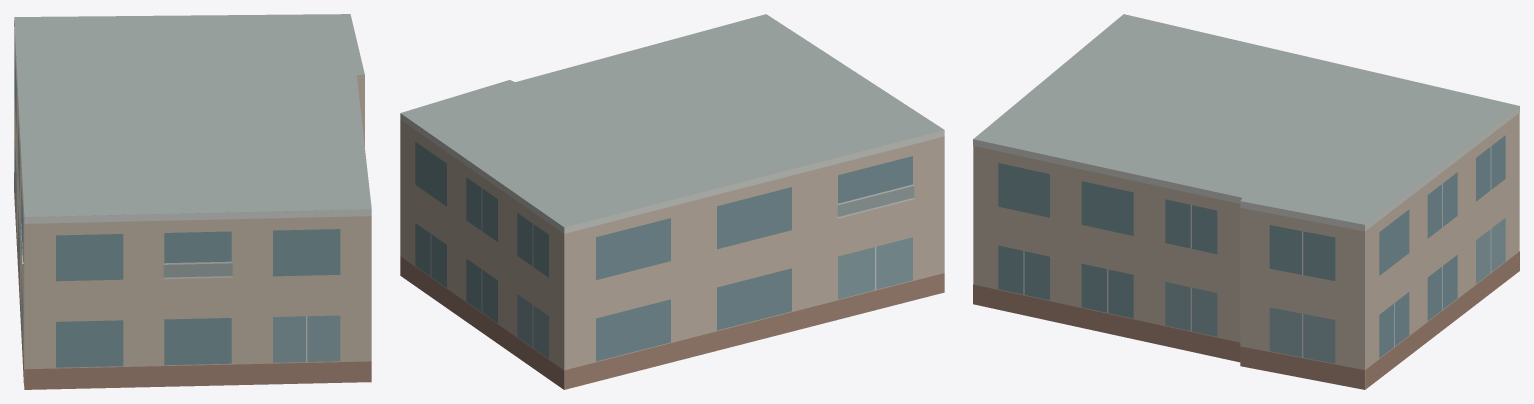
File: survey-upis-33047362.glb
3 views of the same model, side by side, from view 1: azimuth 30°, elevation 25°; view 2: azimuth 150°, elevation 25°; view 3: azimuth 270°, elevation 25° (orthographic). The views are drawn at different scales.
Parts seen in each view (by area): view 1: survey-upis-33047362.tmp; view 2: survey-upis-33047362.tmp; view 3: survey-upis-33047362.tmp.
Part boxes in pixels (x1=…): survey-upis-33047362.tmp: x1=14, y1=14, x2=371, y2=389; survey-upis-33047362.tmp: x1=400, y1=14, x2=944, y2=389; survey-upis-33047362.tmp: x1=973, y1=14, x2=1519, y2=389.
Size of the model in its own units: 16.72 by 6.1 by 18.32.
